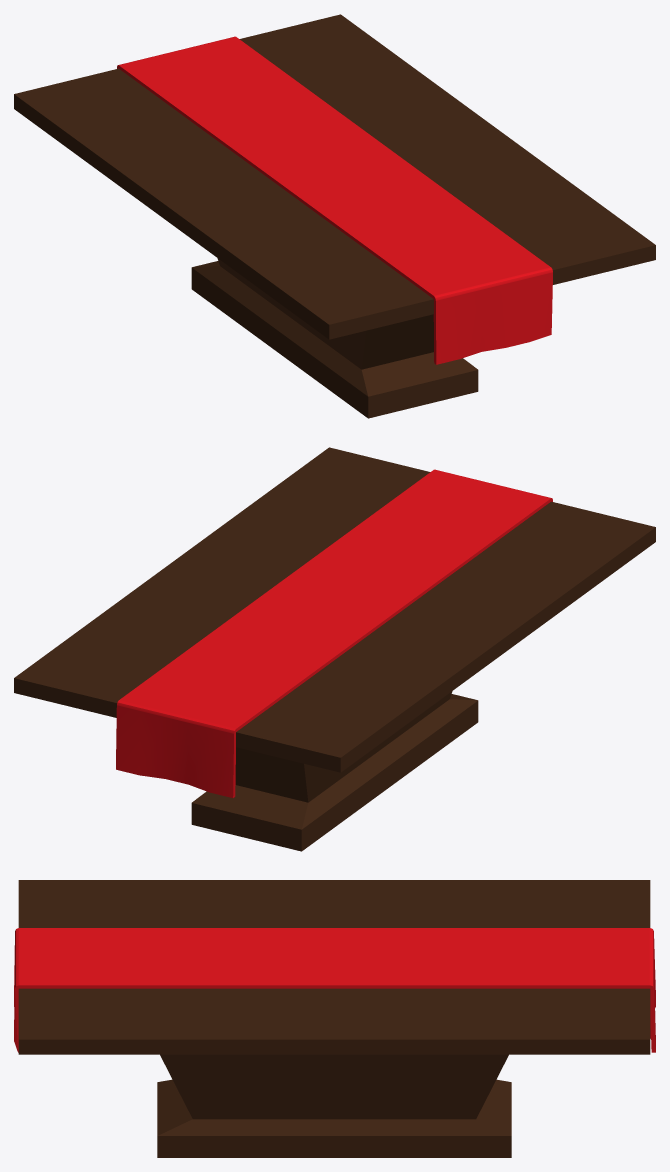
File: table.fbx
The picture shows the model from 3 angles, top to bottom: view 1: azimuth 30°, elevation 25°; view 2: azimuth 150°, elevation 25°; view 3: azimuth 270°, elevation 25°; orthographic projection.
Parts seen in each view (by area): view 1: Table, Table Runner; view 2: Table, Table Runner; view 3: Table, Table Runner.
Part boxes in pixels (x1,y1,x2,y2): Table: (14,14,655,418); Table Runner: (117,36,552,364); Table: (14,447,655,851); Table Runner: (116,469,552,797); Table: (18,880,650,1157); Table Runner: (14,928,655,1052).
Bounding box in the file's own units: 128 × 217 × 65.09.
